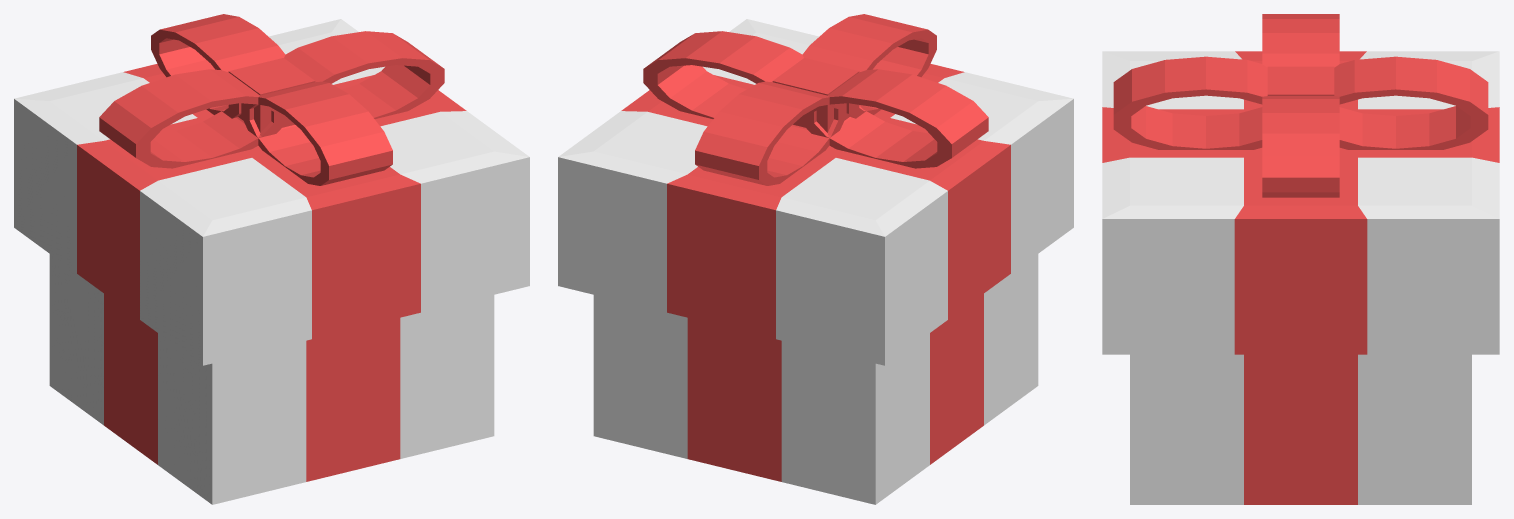
File: Present001.fbx
The picture shows the model from 3 angles, left to right: view 1: azimuth 30°, elevation 25°; view 2: azimuth 150°, elevation 25°; view 3: azimuth 270°, elevation 25°; orthographic projection. The views are drawn at different scales.
Visible parts, largest first — view 1: Present001; view 2: Present001; view 3: Present001.
Part boxes in pixels (x1=…): Present001: x1=14, y1=14, x2=529, y2=504; Present001: x1=558, y1=14, x2=1073, y2=504; Present001: x1=1102, y1=14, x2=1499, y2=504.
Bounding box in the file's own units: 83.71 × 83.67 × 83.71.
